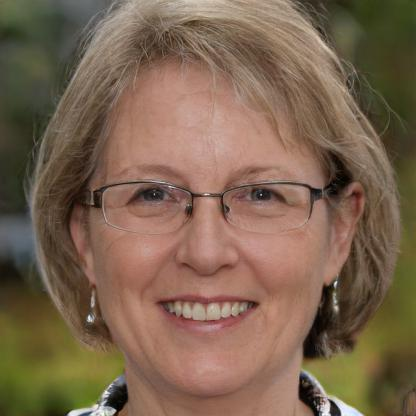glasses: (85, 174, 323, 244)
